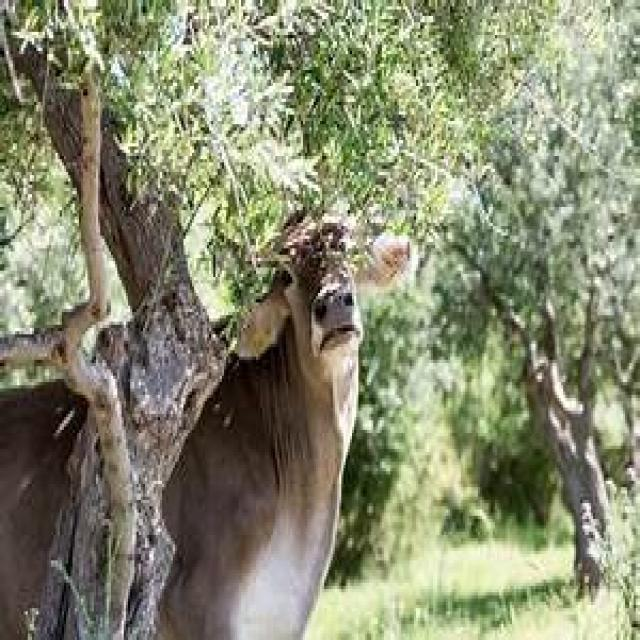cow: (156, 217, 367, 640), (0, 385, 87, 640)
